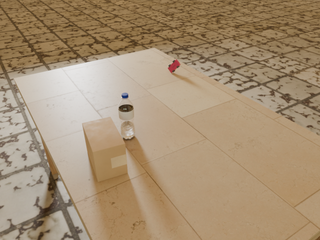bottle: (118, 93, 135, 139)
box: (82, 117, 128, 182)
toy_car: (168, 60, 180, 73)
